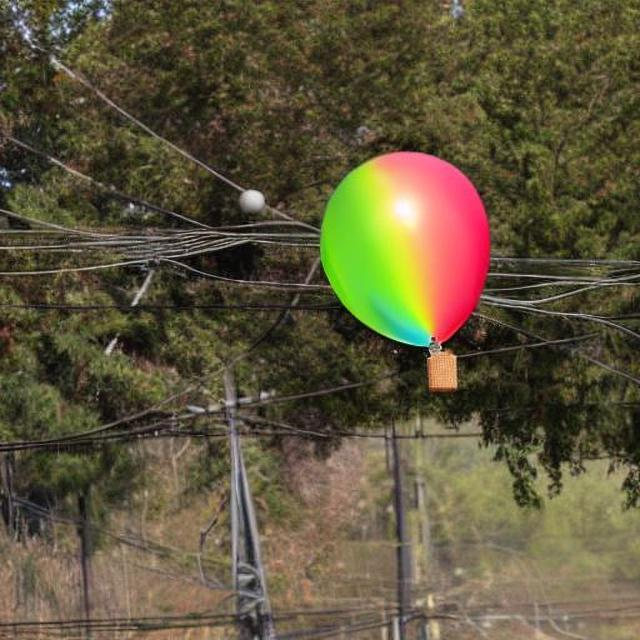balloon: (310, 143, 492, 352), (235, 186, 264, 214)
